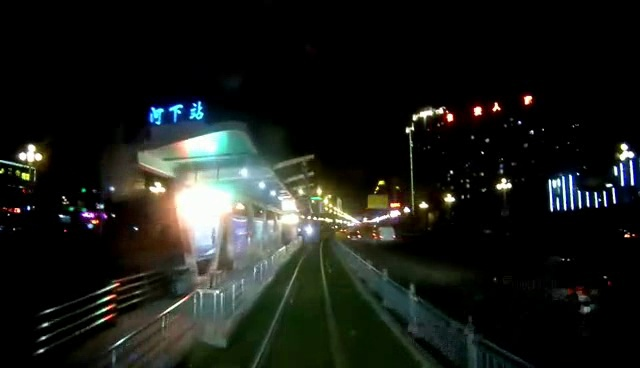car: (367, 223, 404, 248)
